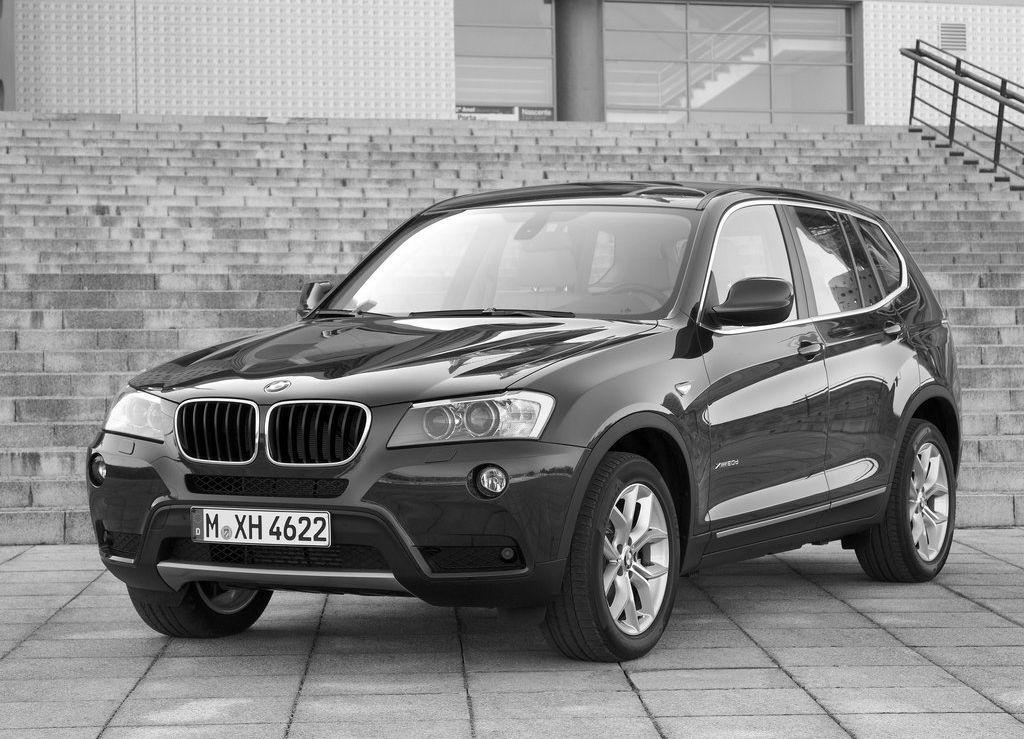car: (82, 177, 969, 659)
